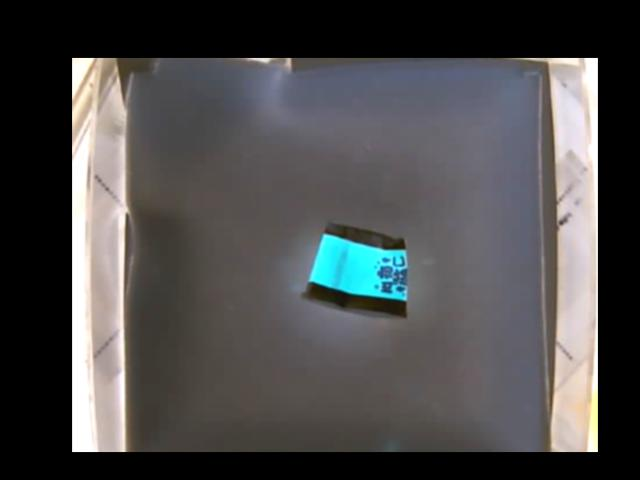Cup: (298, 223, 412, 323)
